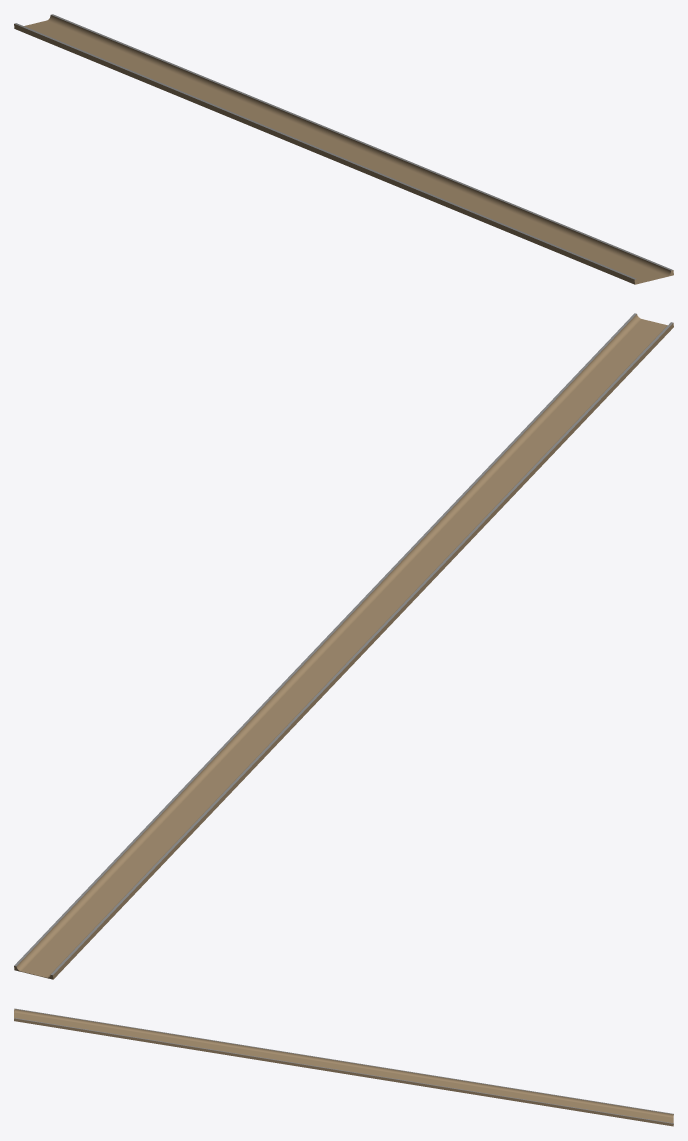
File: Rampa v4 collider.fbx
3 views of the same model, one above another, from view 1: azimuth 30°, elevation 25°; view 2: azimuth 150°, elevation 25°; view 3: azimuth 270°, elevation 25° (orthographic). The views are drawn at different scales.
Visible parts, largest first — view 1: Rampa larga collider; view 2: Rampa larga collider; view 3: Rampa larga collider.
Boxes of the visible parts, bbox=[...] form: Rampa larga collider: bbox=[14, 14, 673, 284]; Rampa larga collider: bbox=[14, 313, 673, 979]; Rampa larga collider: bbox=[14, 1008, 673, 1126].
Bounding box in the file's own units: 3656 × 18220 × 100958.
